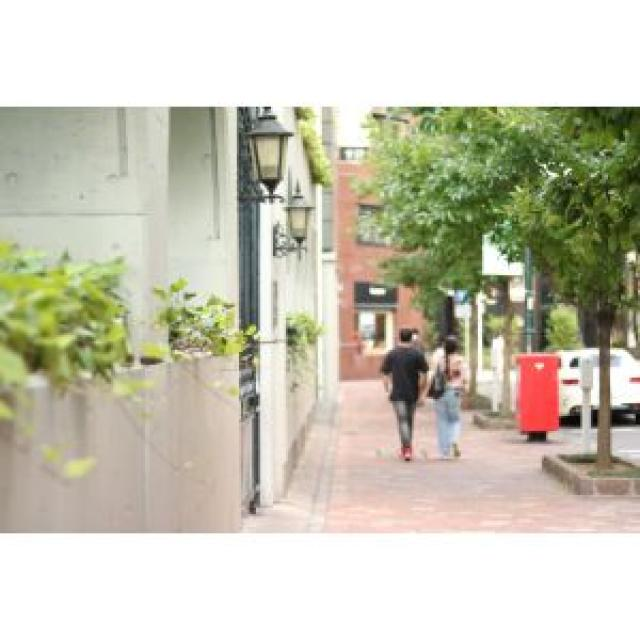nonfall: (376, 322, 433, 460), (430, 326, 471, 464)
